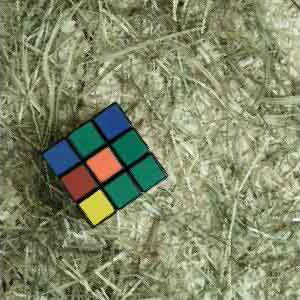rubik: (40, 101, 168, 229)
